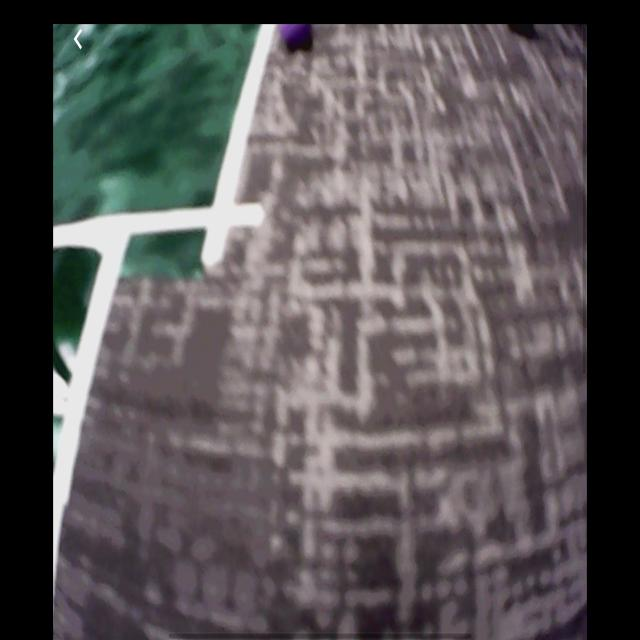ball: (280, 23, 315, 55)
